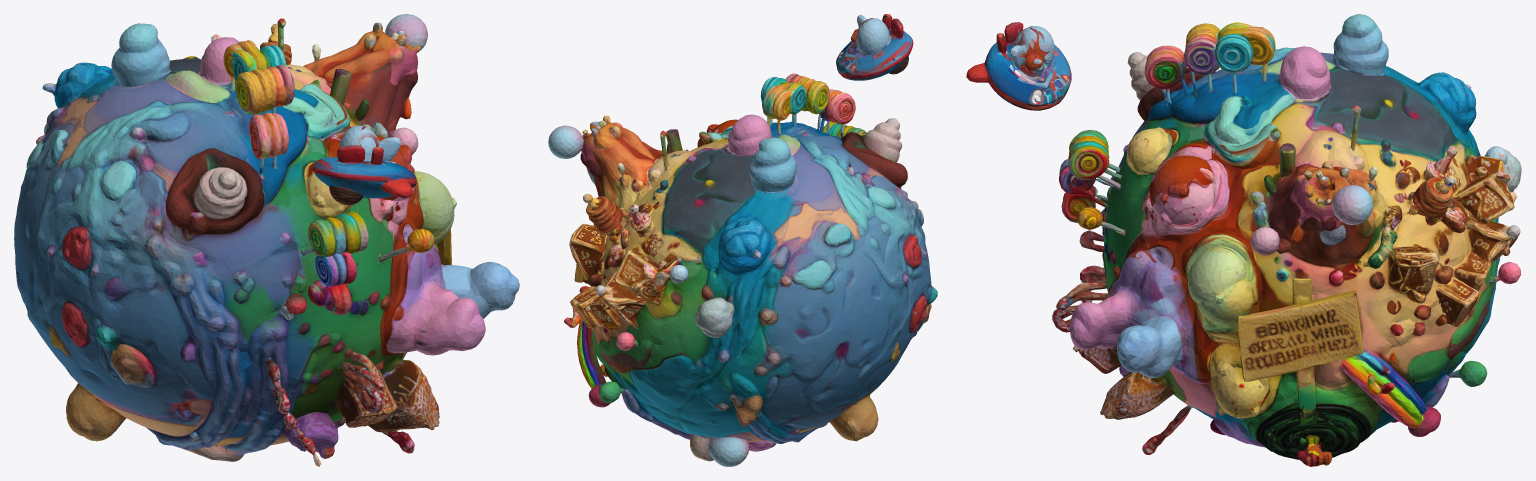
The model's file is tripo_convert_aab8dc31-0285-4916-b25e-a66f1081688a.obj.
The picture shows the model from 3 angles, left to right: view 1: azimuth 30°, elevation 25°; view 2: azimuth 150°, elevation 25°; view 3: azimuth 270°, elevation 25°; orthographic projection. The views are drawn at different scales.
Parts seen in each view (by area): view 1: tripo_node_aab8dc31-0285-4916-b25e-a66f1081688a; view 2: tripo_node_aab8dc31-0285-4916-b25e-a66f1081688a; view 3: tripo_node_aab8dc31-0285-4916-b25e-a66f1081688a.
Boxes of the visible parts, x1,y1,x2,y2 form: tripo_node_aab8dc31-0285-4916-b25e-a66f1081688a: (14,14,519,466); tripo_node_aab8dc31-0285-4916-b25e-a66f1081688a: (548,14,937,466); tripo_node_aab8dc31-0285-4916-b25e-a66f1081688a: (966,14,1521,466).
Bounding box in the file's own units: 0.8131 × 0.8119 × 1.
1 material, 1 textured.
